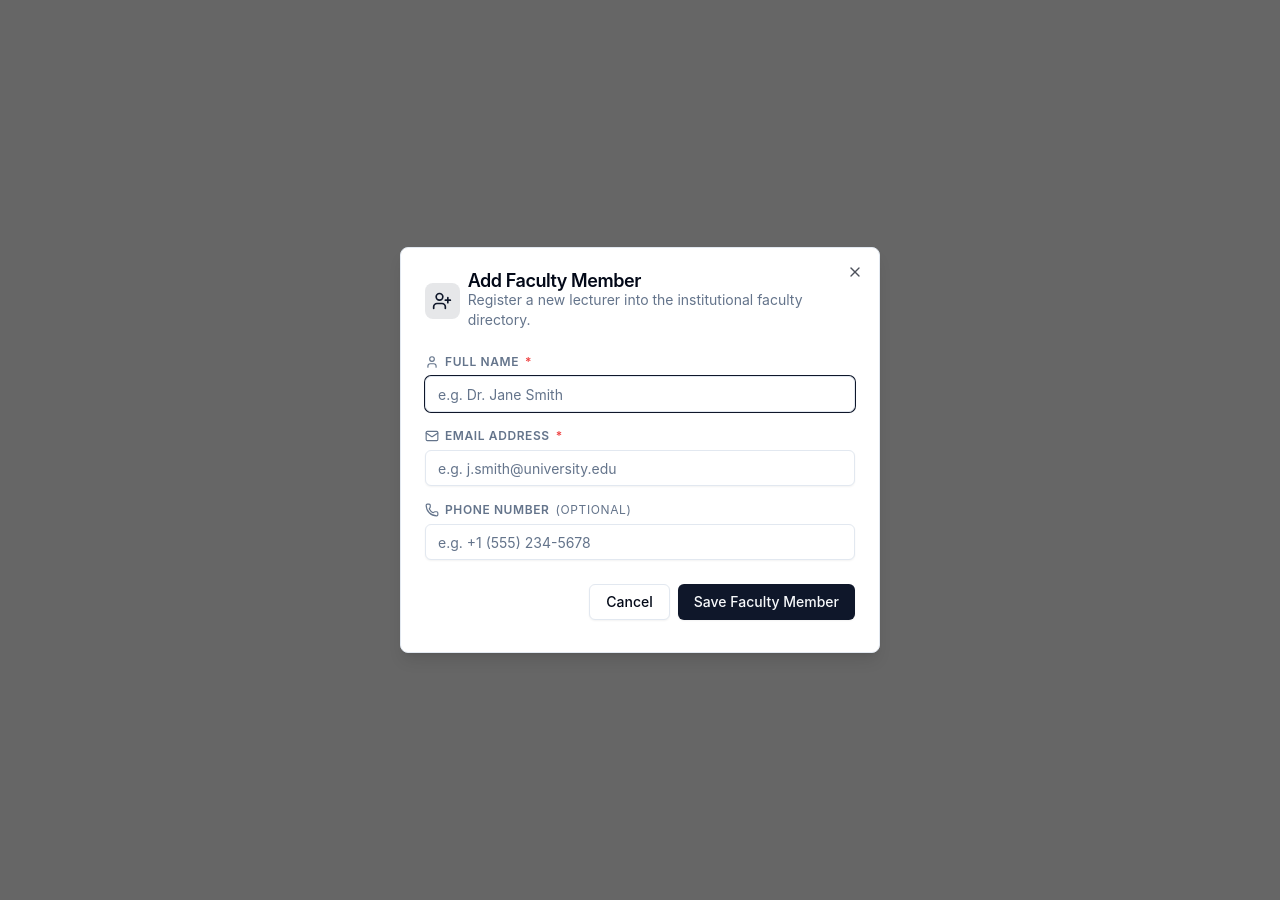
Test: Lecturer Dialogs › CreateLecturerDialog › renders input fields and validates required inputs
expect the heading "Add Faculty Member" is shown: met, box 468,270 -> 641,291
Step 1. Click the button "Save Faculty Member" → click(766, 602), box 678,584 -> 855,620
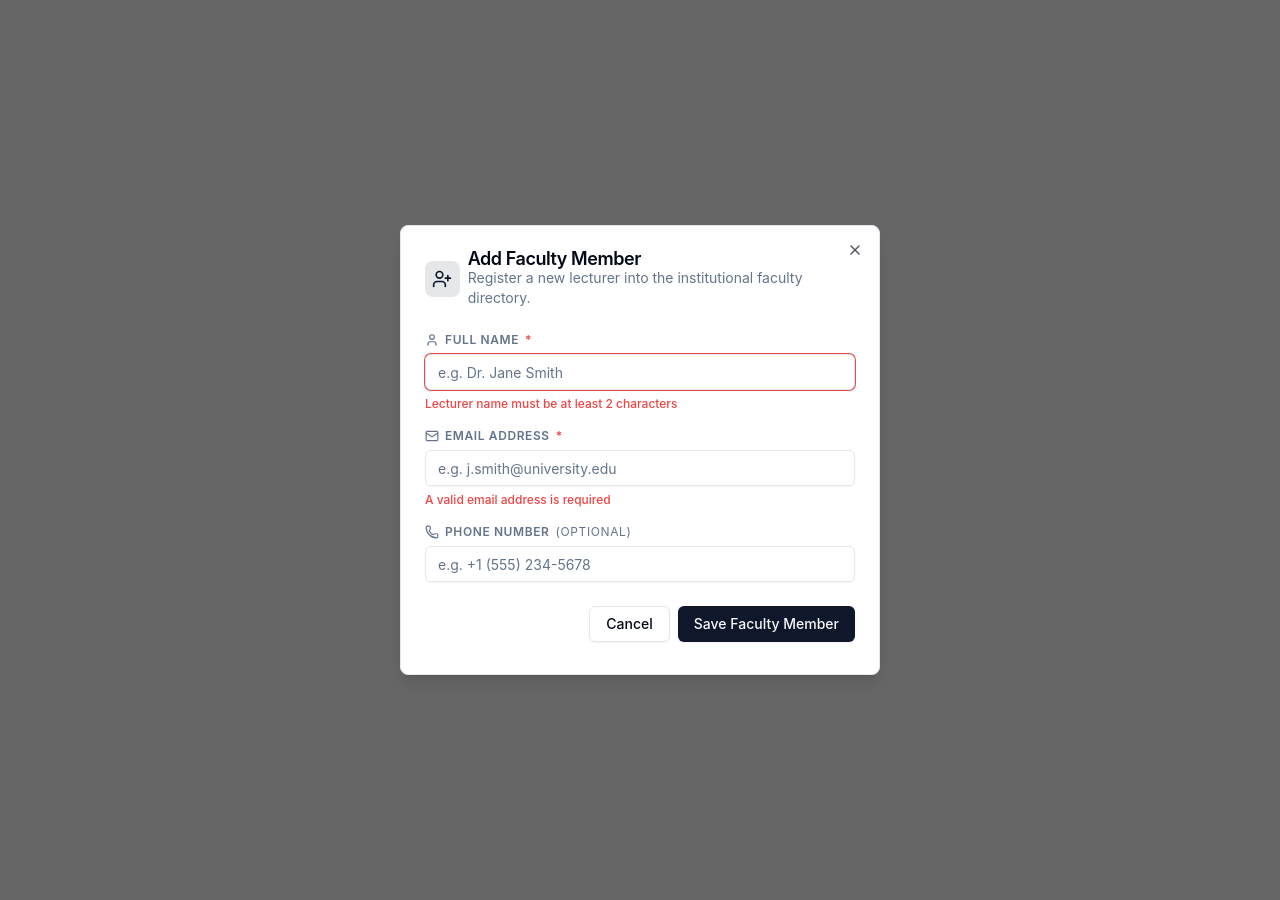
expect the text "Lecturer name must be at least 2 characters" is shown: met, box 425,396 -> 678,411
expect the text "A valid email address is required" is shown: met, box 425,492 -> 611,507
